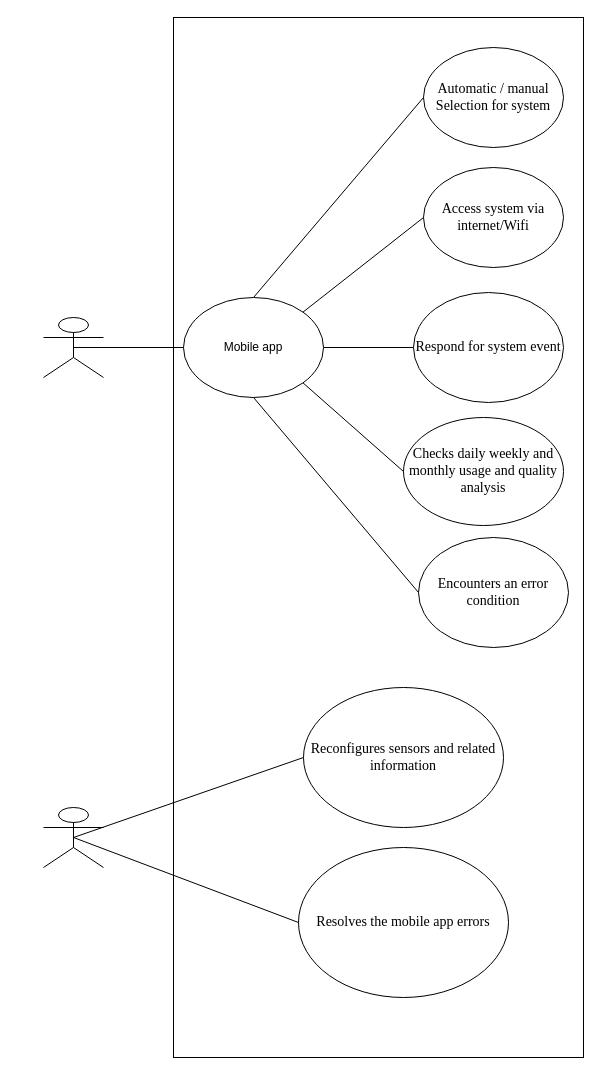
Image size: 601x1075. Some labels were removed from this diagram. Each missing label, with the centre of its shape:
System Administrator: (73,837)
System Owner: (73,347)
